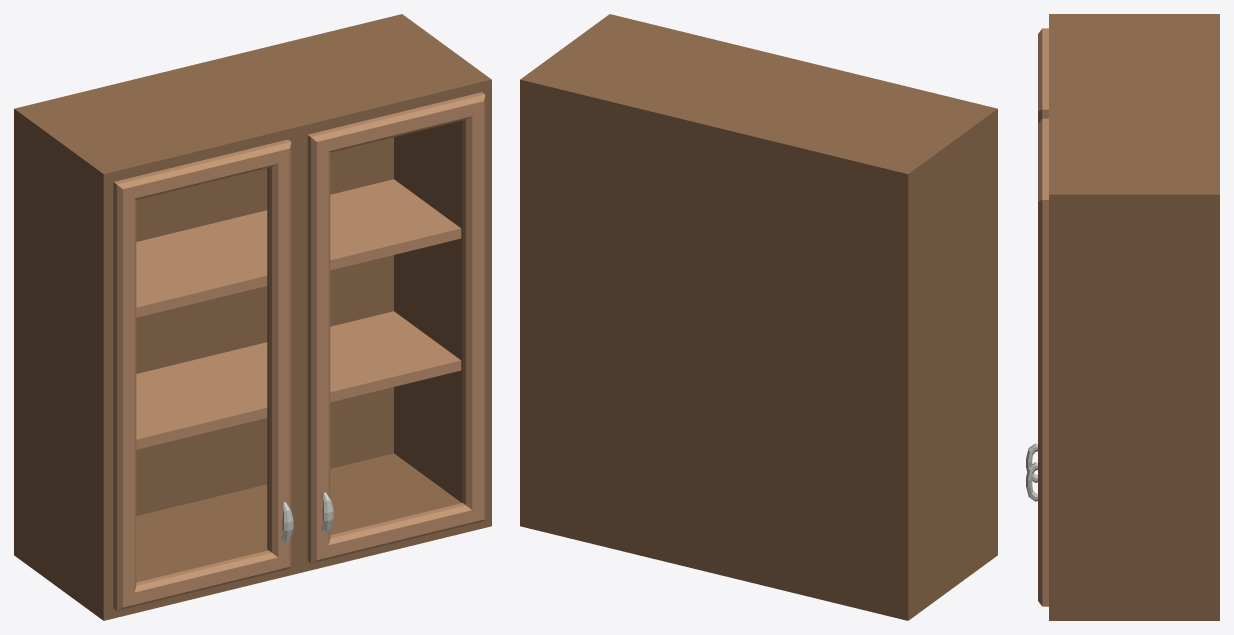
Rendered from Kitchen_Cabinet_Wall_Open.obj.
3 renders of one model, left to right at view 1: azimuth 30°, elevation 25°; view 2: azimuth 150°, elevation 25°; view 3: azimuth 270°, elevation 25°, orthographic. The views are drawn at different scales.
Parts seen in each view (by area): view 1: object1, object3, object2; view 2: object1; view 3: object1, object3, object2.
Boxes of the visible parts, bbox=[...] form: object1: bbox=[14, 14, 491, 620]; object3: bbox=[307, 92, 485, 563]; object2: bbox=[113, 139, 293, 610]; object1: bbox=[520, 14, 997, 620]; object1: bbox=[1049, 14, 1219, 620]; object3: bbox=[1026, 118, 1048, 606]; object2: bbox=[1026, 28, 1048, 482].
Bounding box in the file's own units: 1 × 1.1 × 0.4531.
